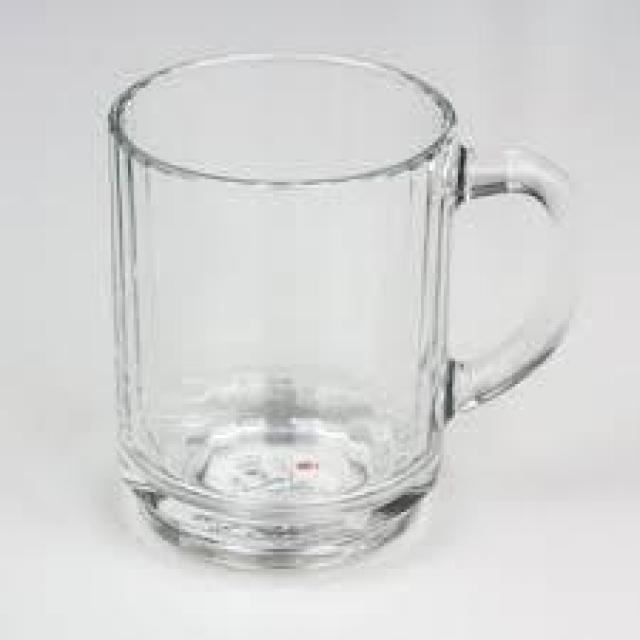non-organic waste: (104, 47, 584, 573)
